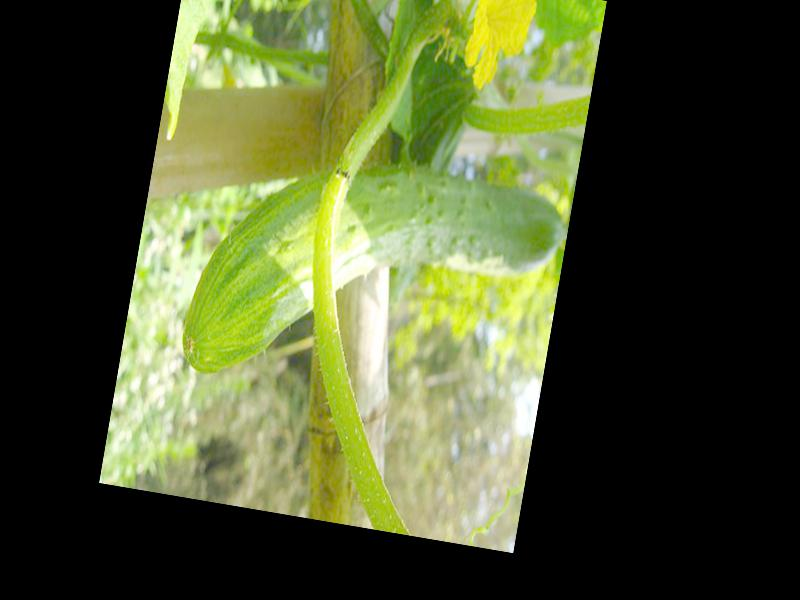Cucumber: (177, 134, 571, 425)
